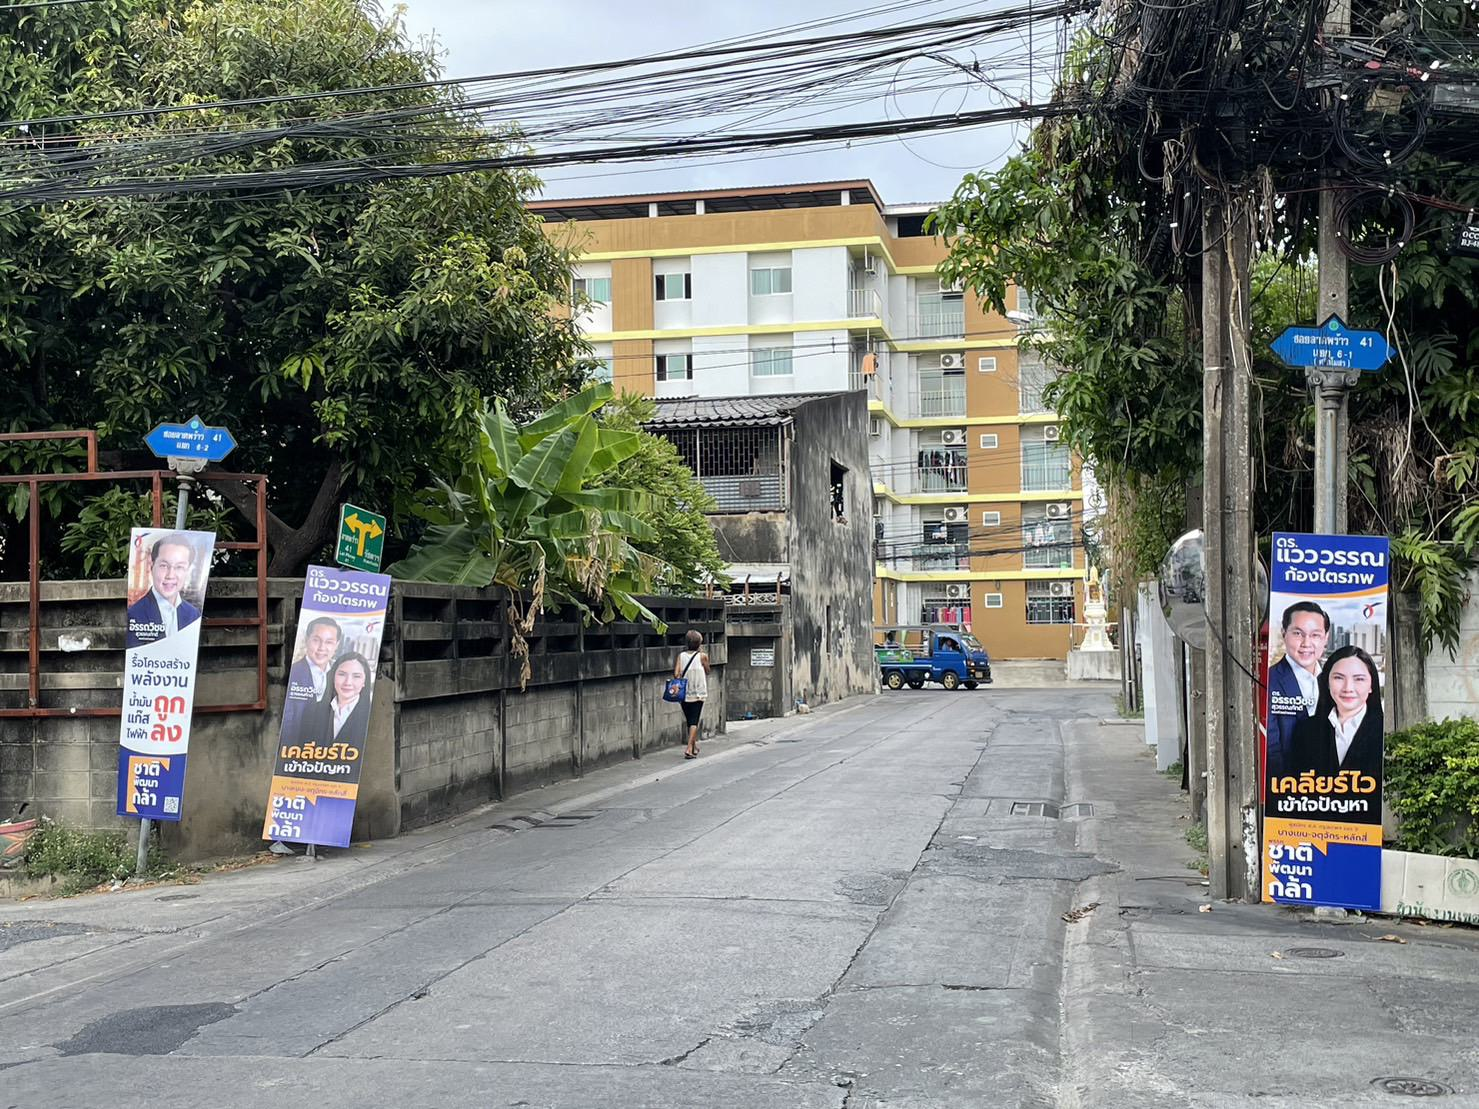Banner: (1257, 518, 1389, 919), (267, 546, 385, 849), (104, 516, 212, 829)
